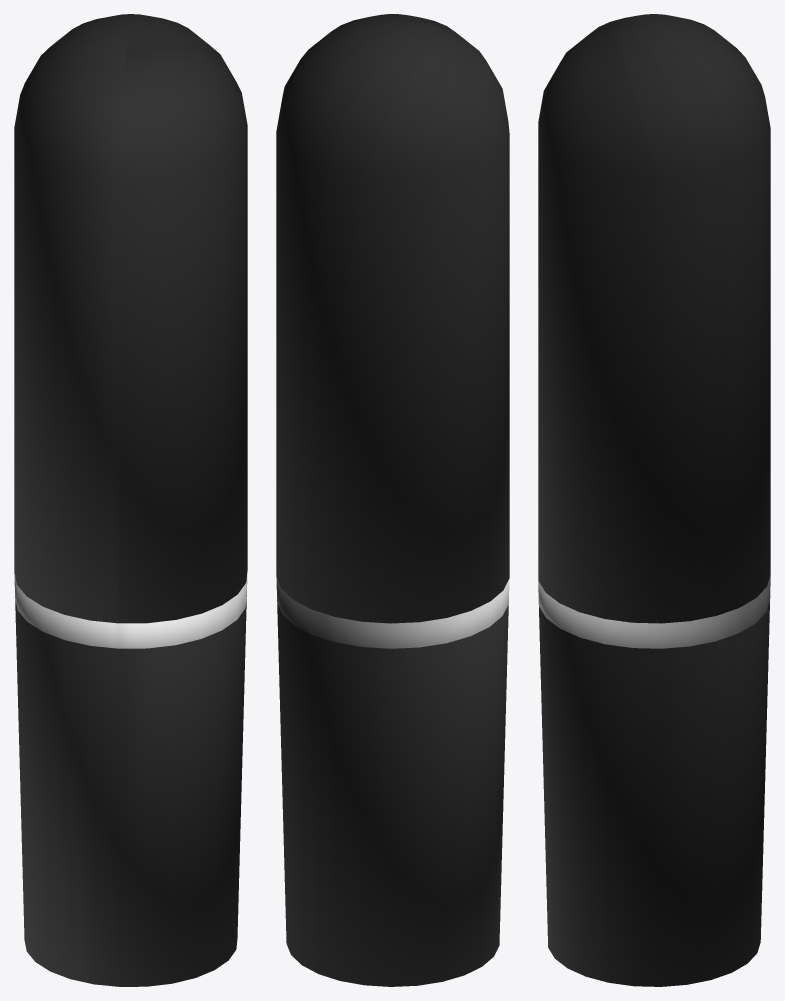
Rendered from lipstick 1.fbx.
3 views of the same model, side by side, from view 1: azimuth 30°, elevation 25°; view 2: azimuth 150°, elevation 25°; view 3: azimuth 270°, elevation 25° (orthographic).
Visible parts, largest first — view 1: cap.001, lipstick; view 2: cap.001, lipstick; view 3: cap.001, lipstick.
Part boxes in pixels (box(x1,y1,x2,y2)): cap.001: box(14, 14, 247, 623); lipstick: box(14, 571, 247, 986); cap.001: box(276, 14, 509, 623); lipstick: box(276, 576, 509, 986); cap.001: box(538, 14, 770, 623); lipstick: box(538, 575, 770, 986).
Size of the model in its own units: 101 by 440 by 101.
Materials: 1 (1 with a texture image).
